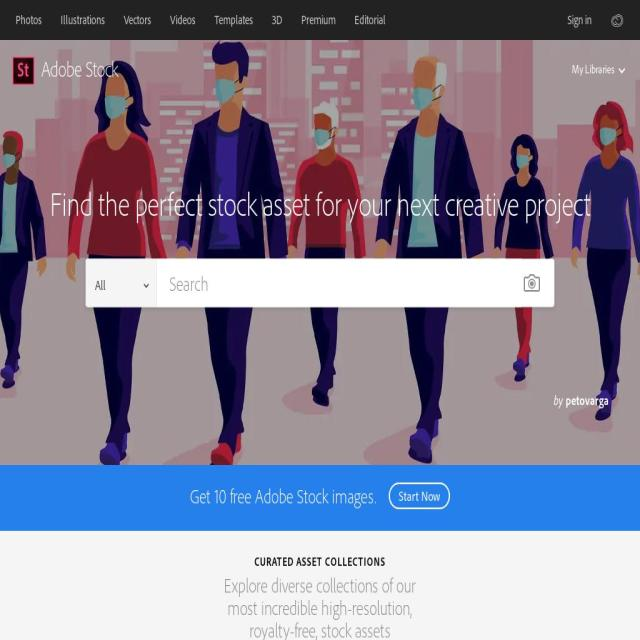button: (52, 0, 115, 40), (205, 0, 263, 40), (292, 0, 345, 40), (345, 0, 395, 40), (6, 0, 52, 40), (114, 0, 160, 40), (161, 0, 205, 40), (558, 0, 601, 40), (389, 483, 450, 509), (262, 0, 292, 40), (572, 61, 627, 78)
field: (157, 258, 522, 308), (86, 258, 156, 308)
heading: (49, 181, 590, 224), (254, 554, 386, 569)
image: (0, 40, 640, 465), (12, 57, 118, 85)
link: (566, 392, 608, 408), (554, 392, 566, 408)
text: (224, 572, 416, 640), (190, 484, 376, 508), (572, 62, 614, 76)
